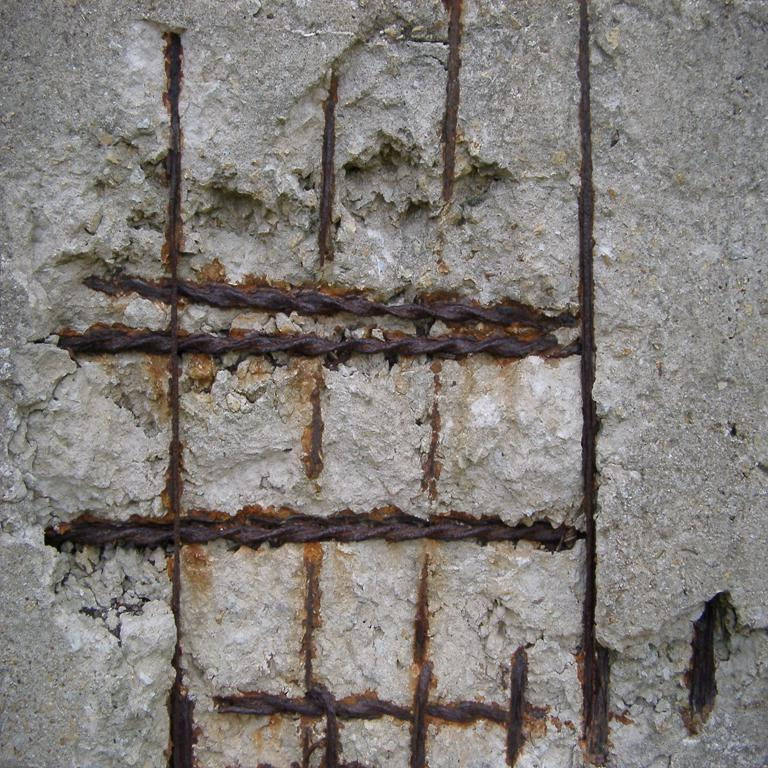exposed_rebar: (45, 33, 582, 553), (214, 564, 550, 768), (579, 0, 609, 764), (688, 599, 722, 732), (442, 0, 461, 202), (318, 74, 338, 262), (302, 372, 324, 479), (170, 684, 196, 768)
spalling: (10, 0, 768, 768)
